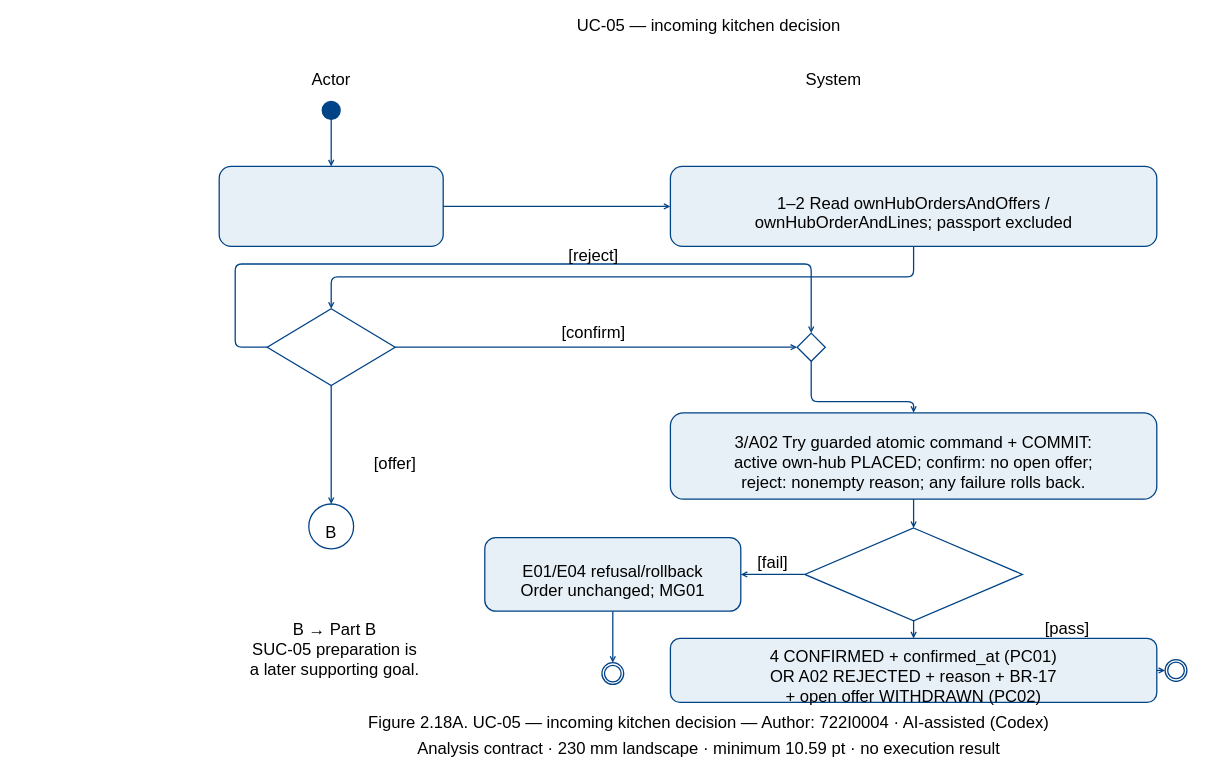
Image size: 1222x769. Some labels were removed from this diagram. Here are the shapes that lost their labels. From the top down, the box of each, then its label:
(218, 165, 444, 247): 1–2 viewKitchenOrders() viewKitchenOrder(orderId)
(266, 308, 396, 386): 3 Decision?
(804, 527, 1023, 621): All guards + commit pass?
